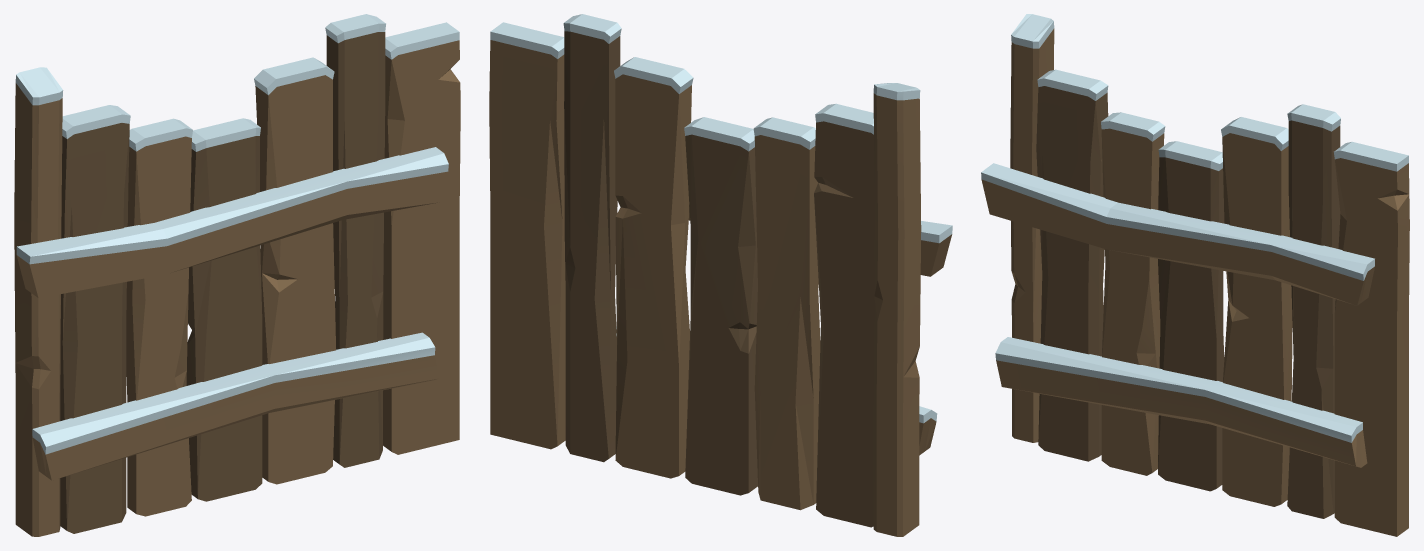
The model's file is Cerca_Madera03.glb.
3 renders of one model, left to right at view 1: azimuth 30°, elevation 25°; view 2: azimuth 150°, elevation 25°; view 3: azimuth 330°, elevation 25°, orthographic. The views are drawn at different scales.
Parts seen in each view (by area): view 1: SM_Prop_Fence_Wood_03_Snow; view 2: SM_Prop_Fence_Wood_03_Snow; view 3: SM_Prop_Fence_Wood_03_Snow.
Boxes of the visible parts, x1,y1,x2,y2 form: SM_Prop_Fence_Wood_03_Snow: (14, 14, 460, 536); SM_Prop_Fence_Wood_03_Snow: (489, 14, 952, 536); SM_Prop_Fence_Wood_03_Snow: (981, 14, 1409, 536).
Size of the model in its own units: 1.75 by 1.72 by 0.2331.
Materials: 1 (1 with a texture image).
